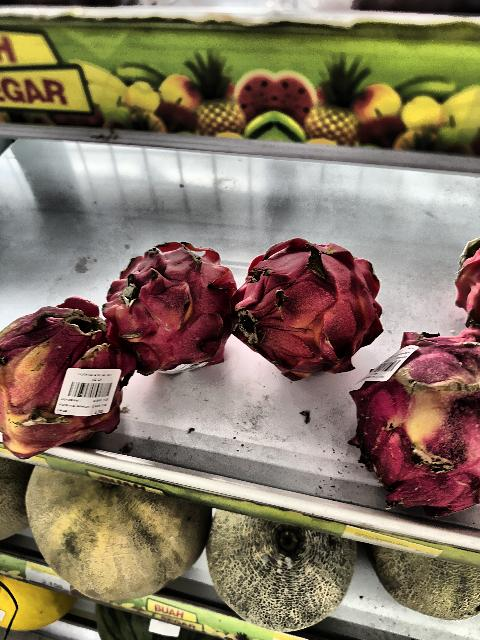buah-naga-belum-matang: (356, 319, 480, 513), (0, 298, 136, 462)
buah-naga-matang: (236, 230, 388, 386), (95, 240, 249, 384)
